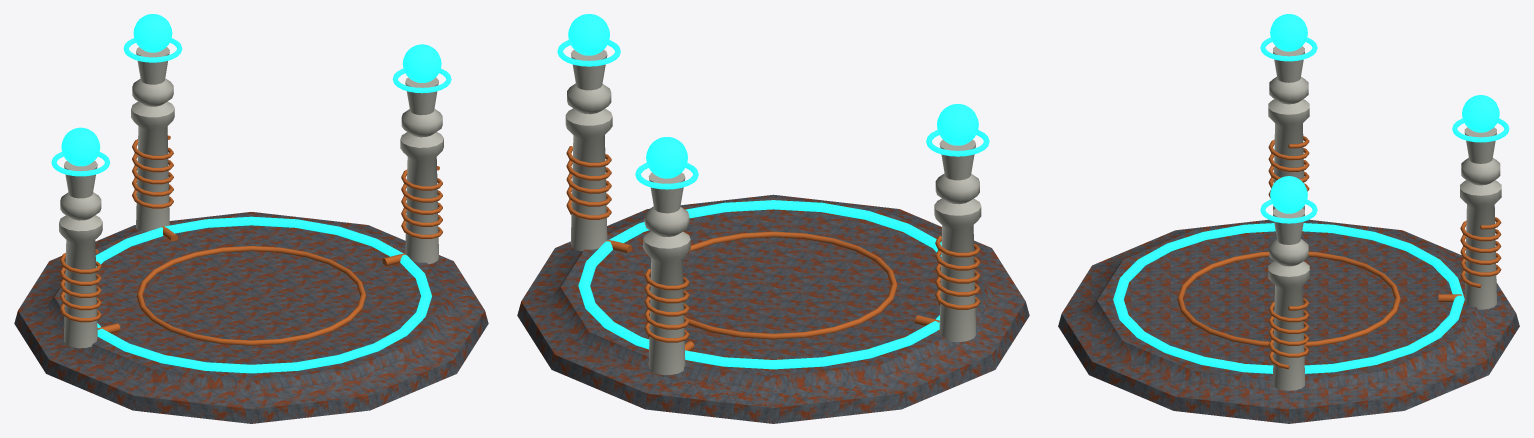
Rendered from teleporter_pad.glb.
3 views of the same model, side by side, from view 1: azimuth 30°, elevation 25°; view 2: azimuth 150°, elevation 25°; view 3: azimuth 270°, elevation 25° (orthographic). The views are drawn at different scales.
Visible parts, largest first — view 1: TeleporterPad; view 2: TeleporterPad; view 3: TeleporterPad.
Part boxes in pixels (<box>): TeleporterPad: <box>14,14,488,423</box>; TeleporterPad: <box>517,14,1029,423</box>; TeleporterPad: <box>1058,14,1519,423</box>.
Bounding box in the file's own units: 3.9 × 2.14 × 3.9.
4 materials, 1 textured.
